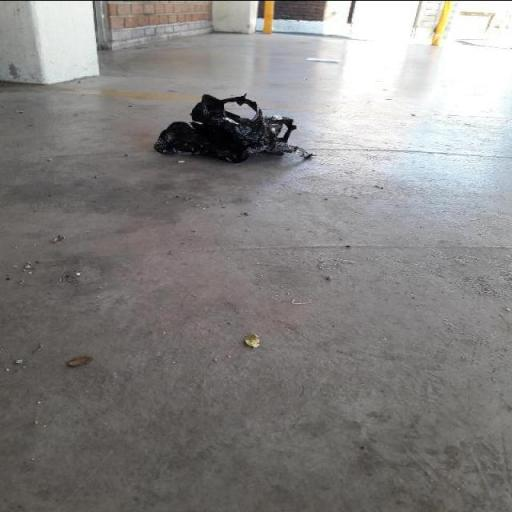plastic-bag: (151, 88, 312, 164)
